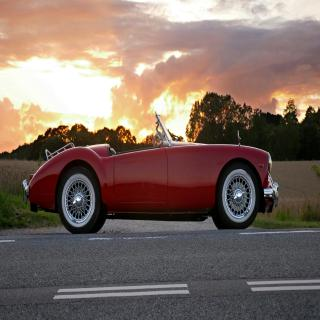Normal_vehicle: (23, 108, 280, 233)
